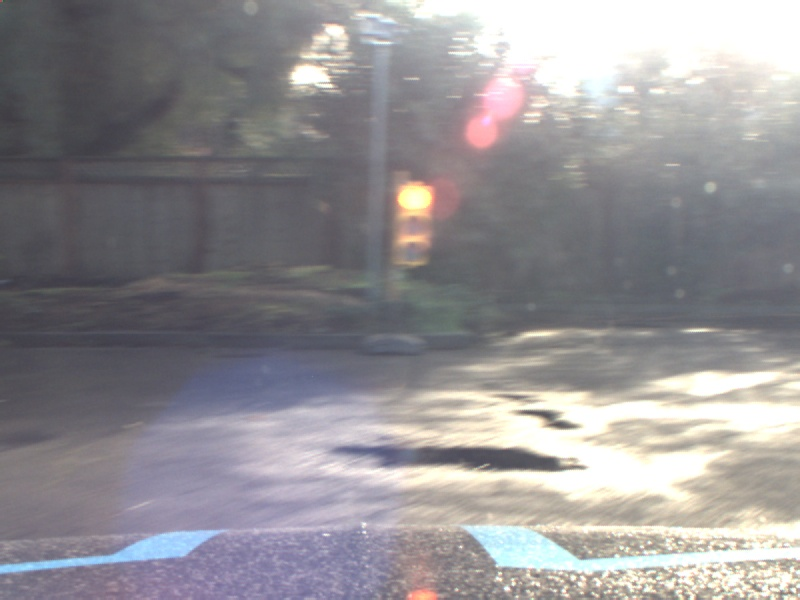Red: (394, 182, 433, 263)
